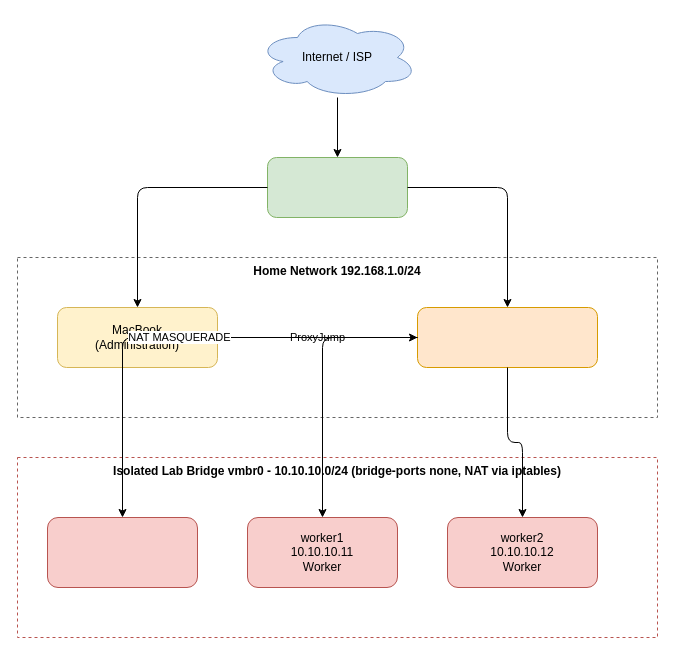
This 675x655 diagram has some shape labels left out. Each missing label, with the centre of its shape:
"master 10.10.10.10 Control Plane" belongs at [122,552].
"Proxmox Host 192.168.1.20 (wlp3s0)" belongs at [507,337].
"Router 192.168.1.254" belongs at [337,187].
